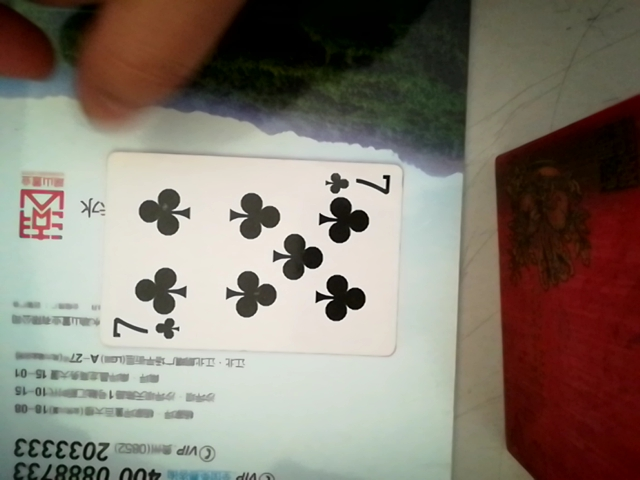mh 7: (88, 151, 406, 362)
